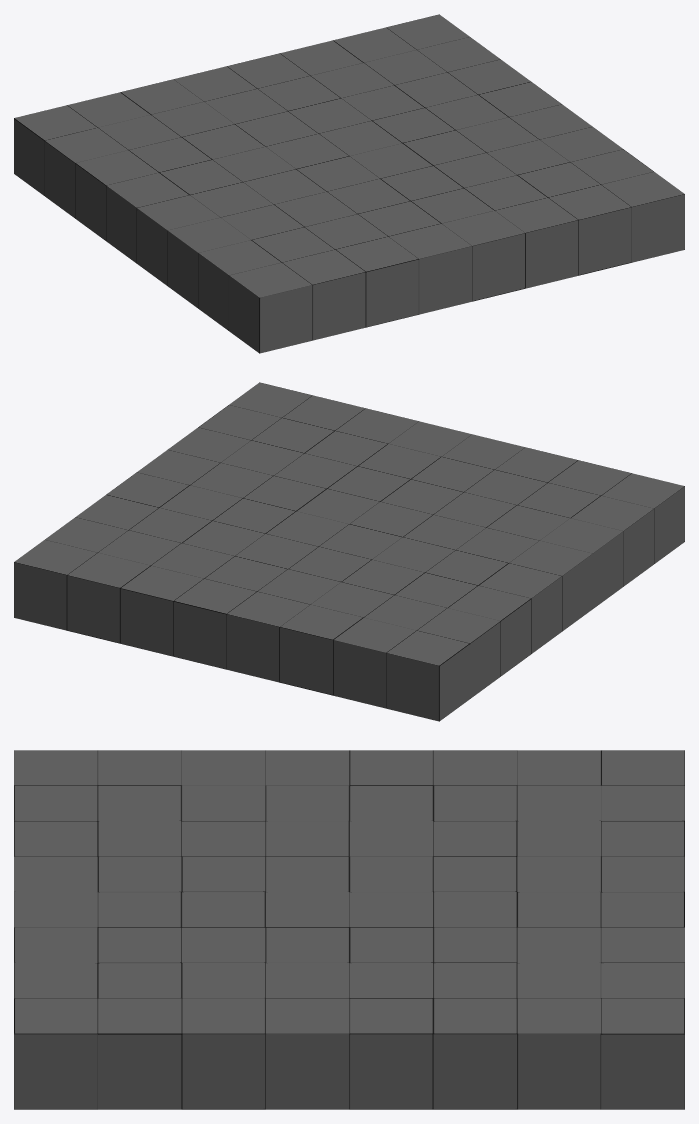
File: sidestreet.obj
3 renders of one model, top to bottom at view 1: azimuth 30°, elevation 25°; view 2: azimuth 150°, elevation 25°; view 3: azimuth 270°, elevation 25°, orthographic. The views are drawn at different scales.
Parts seen in each view (by area): view 1: sidestreet_Cube; view 2: sidestreet_Cube; view 3: sidestreet_Cube.
Boxes of the visible parts, x1,y1,x2,y2 form: sidestreet_Cube: (14, 14, 684, 353); sidestreet_Cube: (14, 382, 684, 721); sidestreet_Cube: (14, 750, 684, 1109).
Size of the model in its own units: 16 by 2 by 16.
Materials: 1 (1 with a texture image).
